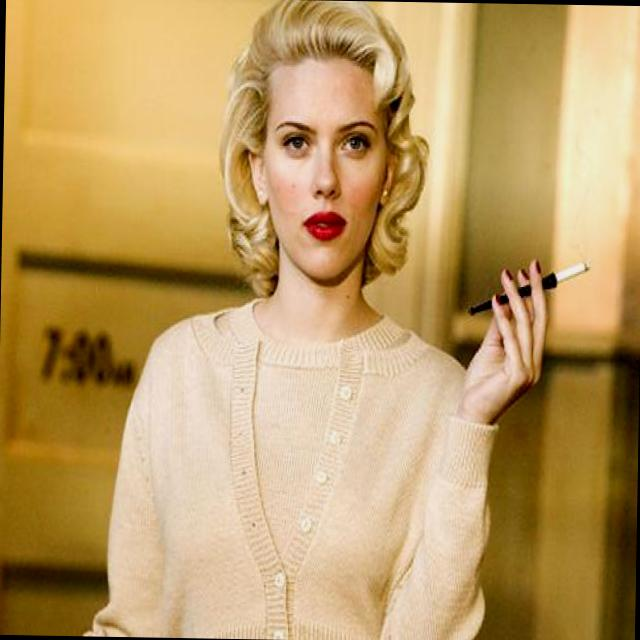cigarette: (450, 220, 602, 334)
